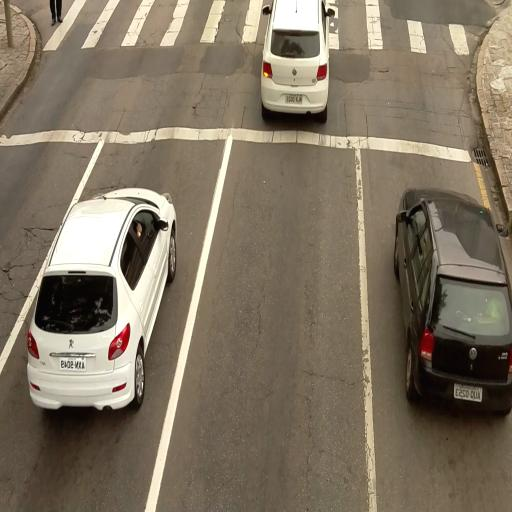car: (30, 189, 178, 412), (392, 188, 512, 414), (259, 2, 333, 122)
